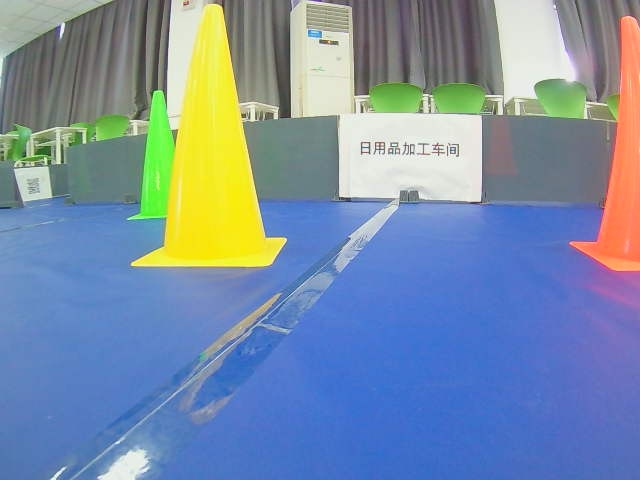target: (360, 140, 461, 158)
